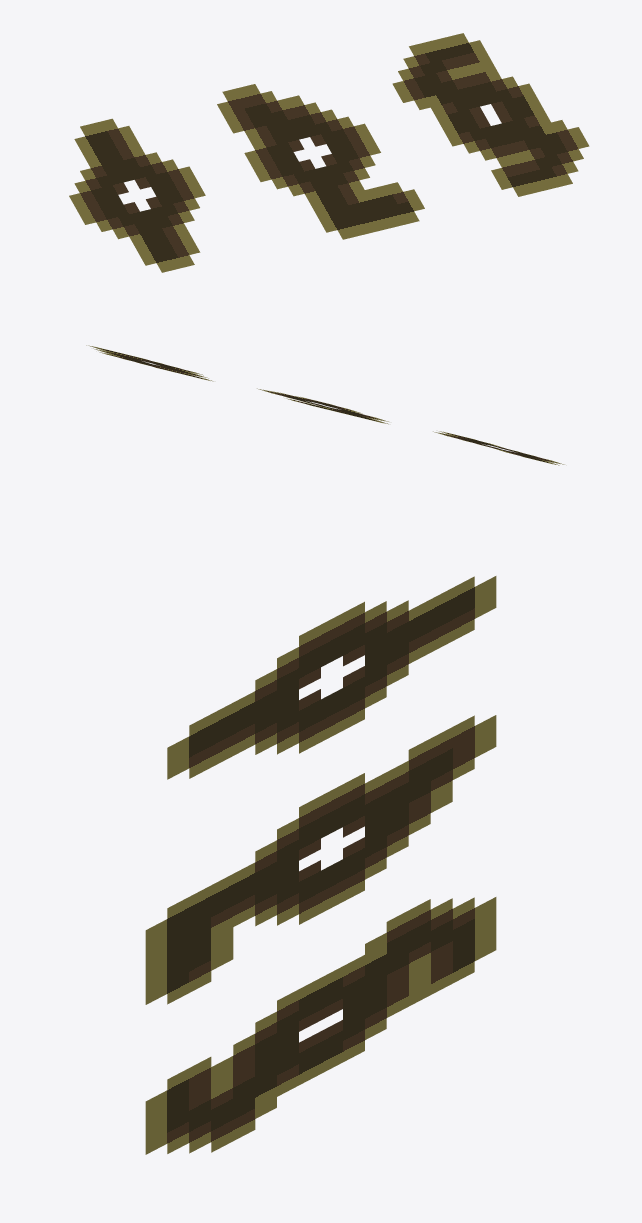
3 renders of one model, top to bottom at view 1: azimuth 30°, elevation 25°; view 2: azimuth 150°, elevation 25°; view 3: azimuth 270°, elevation 25°, orthographic. The views are drawn at different scales.
Size of the model in its own units: 3 by 0.5 by 0.8662.
3 materials, 3 textured.
